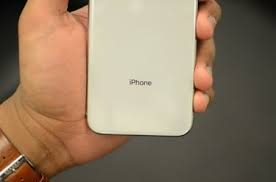iphone: (85, 1, 197, 139)
iphone10: (85, 1, 197, 139)
